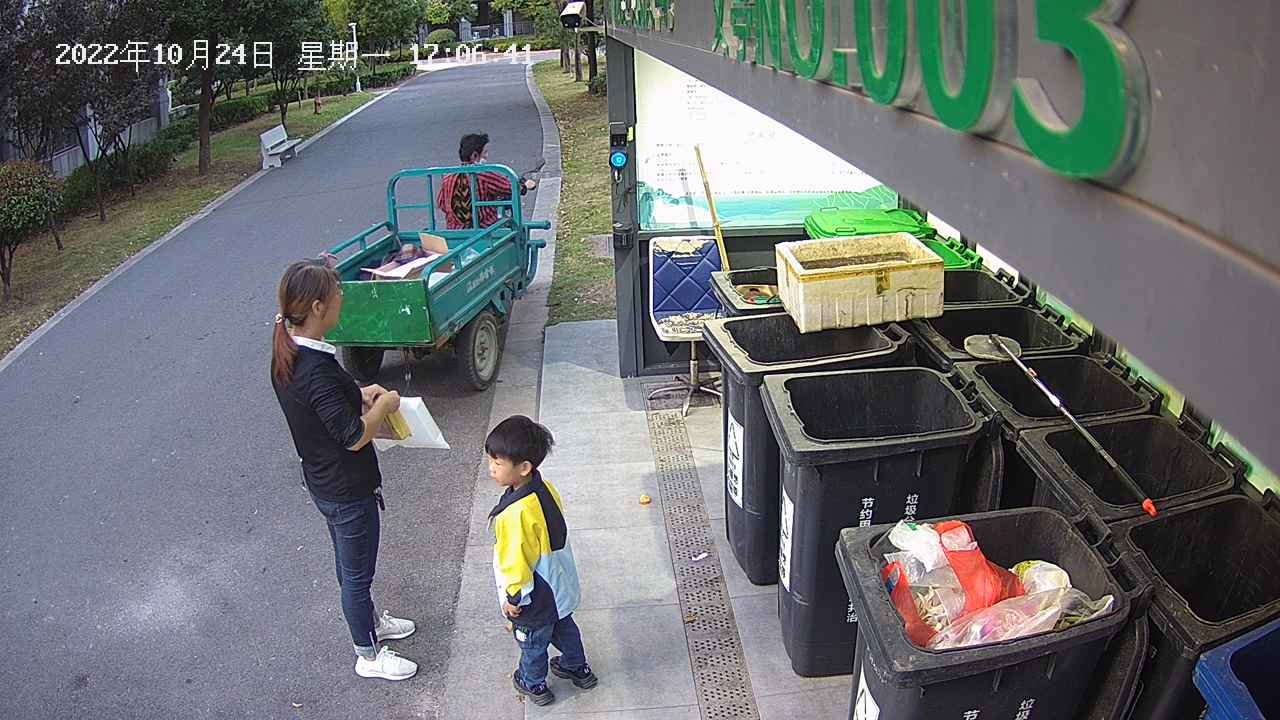person: (262, 252, 425, 684), (475, 407, 608, 709)
